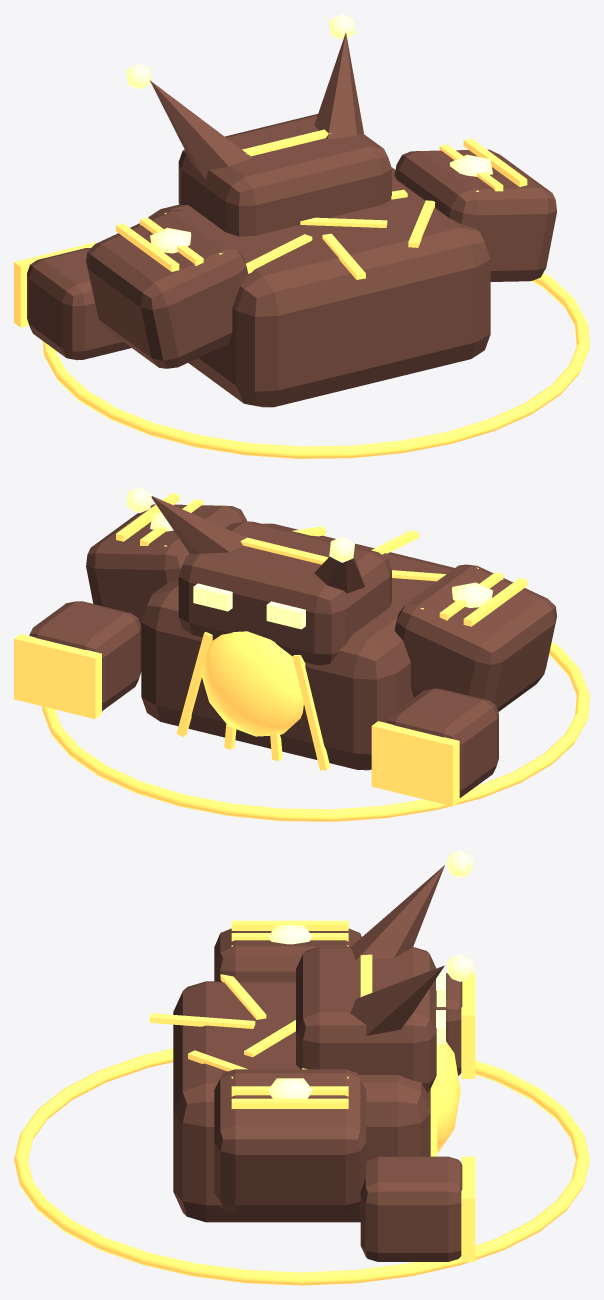
File: boss_titan.glb
The picture shows the model from 3 angles, top to bottom: view 1: azimuth 30°, elevation 25°; view 2: azimuth 150°, elevation 25°; view 3: azimuth 270°, elevation 25°; orthographic projection. The views are drawn at different scales.
Parts seen in each view (by area): view 1: torso, shoulder, head, shoulder.001, ring, fist, horn, horn.001, knuckle, crack.002, crack.005, head_crack (+6 smaller); view 2: torso, head, shoulder, ring, core, shoulder.001, fist, fist.001, knuckle, knuckle.001, horn.001, vein (+12 smaller); view 3: torso, shoulder.001, head, ring, fist.001, shoulder, horn, horn.001, core, knuckle.001, knuckle, fist (+12 smaller).
Boxes of the visible parts, bbox=[...] form: torso: bbox=[148, 167, 490, 407]; shoulder: bbox=[86, 210, 248, 368]; head: bbox=[178, 114, 391, 236]; shoulder.001: bbox=[394, 149, 556, 281]; ring: bbox=[42, 273, 589, 458]; fist: bbox=[27, 248, 131, 360]; horn: bbox=[150, 80, 252, 178]; horn.001: bbox=[314, 33, 363, 139]; knuckle: bbox=[14, 242, 96, 327]; crack.002: bbox=[116, 223, 179, 271]; crack.005: bbox=[463, 138, 527, 186]; head_crack: bbox=[242, 129, 331, 156]; torso: bbox=[141, 523, 454, 770]; head: bbox=[178, 521, 391, 665]; shoulder: bbox=[394, 564, 556, 711]; ring: bbox=[42, 641, 589, 821]; core: bbox=[200, 631, 303, 736]; shoulder.001: bbox=[86, 504, 246, 625]; fist: bbox=[387, 688, 498, 797]; fist.001: bbox=[29, 601, 141, 710]; knuckle: bbox=[371, 721, 459, 806]; knuckle.001: bbox=[14, 634, 101, 718]; horn.001: bbox=[151, 496, 246, 553]; vein: bbox=[292, 655, 330, 770]; torso: bbox=[173, 981, 430, 1222]; shoulder.001: bbox=[214, 1069, 366, 1213]; head: bbox=[296, 947, 436, 1092]; ring: bbox=[14, 1048, 589, 1285]; fist.001: bbox=[360, 1156, 462, 1261]; shoulder: bbox=[214, 928, 361, 982]; horn: bbox=[350, 865, 444, 960]; horn.001: bbox=[350, 965, 444, 1035]; core: bbox=[436, 1041, 460, 1152]; knuckle.001: bbox=[461, 1156, 475, 1261]; knuckle: bbox=[461, 973, 475, 1078]; fist: bbox=[436, 973, 462, 1075].
Size of the model in its own units: 4.92 by 2.53 by 4.92.
